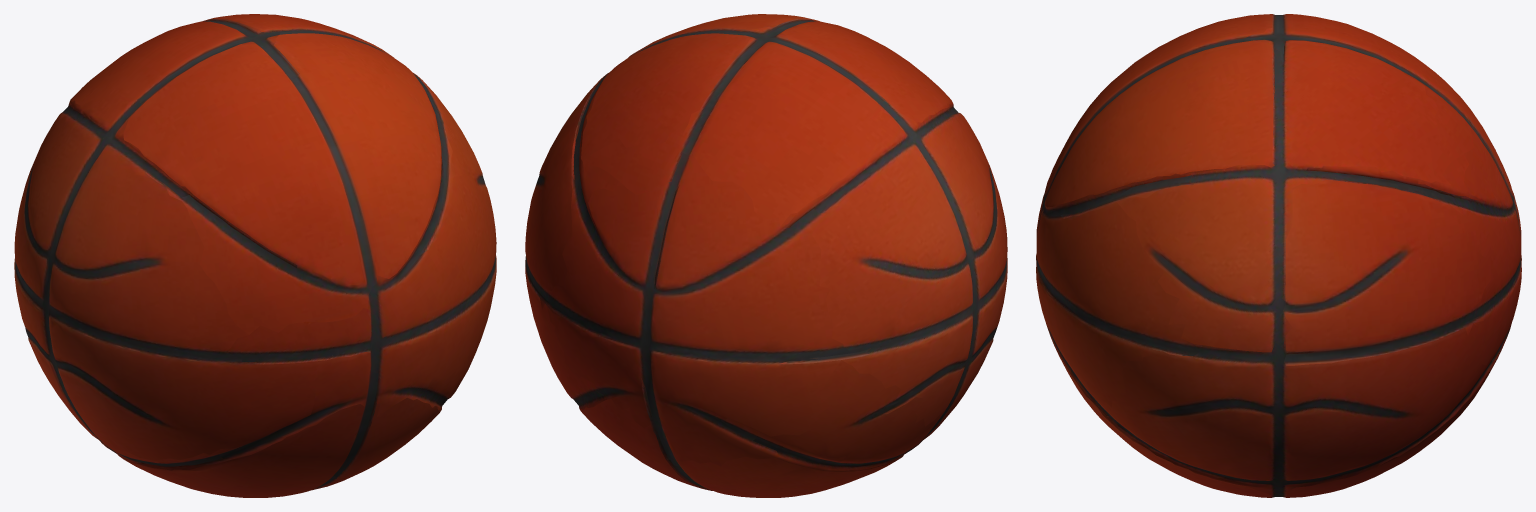
File: basketball.glb
The picture shows the model from 3 angles, left to right: view 1: azimuth 30°, elevation 25°; view 2: azimuth 150°, elevation 25°; view 3: azimuth 270°, elevation 25°; orthographic projection.
Visible parts, largest first — view 1: geometry_0; view 2: geometry_0; view 3: geometry_0.
Part boxes in pixels (left/top/right/bottom): geometry_0: left=14, top=14, right=496, bottom=497; geometry_0: left=525, top=14, right=1007, bottom=497; geometry_0: left=1036, top=14, right=1521, bottom=497.
Bounding box in the file's own units: 0.9983 × 0.9973 × 0.9983.
Materials: 1 (1 with a texture image).
